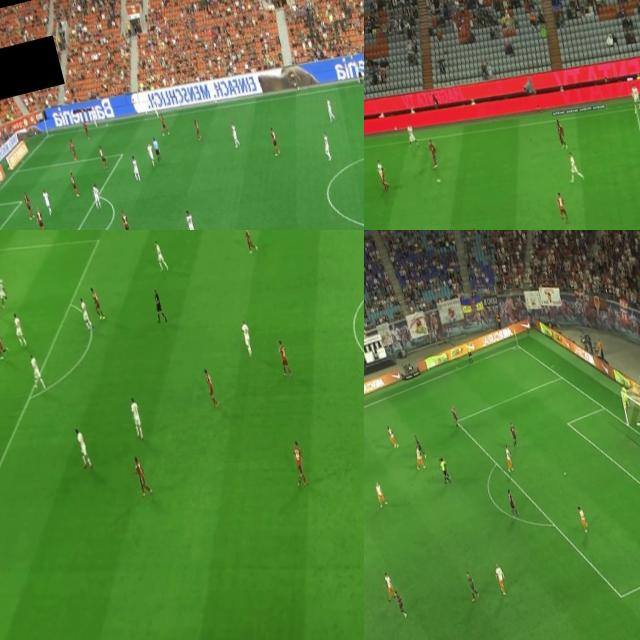ball: (434, 174, 444, 186), (0, 273, 3, 286), (105, 123, 108, 127)
player: (286, 436, 310, 486), (130, 453, 152, 499), (126, 394, 148, 437), (562, 149, 586, 186), (236, 318, 256, 361), (200, 366, 220, 408), (150, 235, 170, 274), (74, 426, 90, 470), (76, 293, 92, 332), (236, 230, 258, 257), (11, 313, 27, 350), (28, 354, 44, 391), (88, 284, 104, 321), (553, 116, 570, 150), (274, 338, 291, 372), (392, 586, 408, 622), (554, 190, 570, 225), (266, 121, 282, 154), (491, 561, 507, 594), (380, 570, 396, 600), (374, 158, 388, 192), (425, 137, 440, 168), (22, 187, 36, 220), (404, 120, 419, 150), (576, 504, 591, 534), (501, 444, 516, 474), (89, 178, 103, 210), (128, 152, 142, 184), (373, 478, 387, 510), (182, 203, 198, 230), (628, 82, 640, 117), (378, 165, 392, 195), (411, 429, 425, 458), (67, 166, 80, 197), (464, 570, 478, 598), (95, 140, 108, 170), (385, 420, 398, 450), (319, 131, 333, 158), (504, 486, 518, 513), (507, 419, 520, 448), (324, 95, 336, 126), (410, 444, 424, 470), (33, 203, 46, 230), (228, 118, 240, 146), (144, 139, 156, 166), (157, 110, 169, 136), (0, 322, 8, 361), (67, 135, 79, 160), (619, 383, 631, 408), (40, 188, 51, 215), (119, 209, 132, 230), (449, 402, 459, 428), (88, 105, 99, 126), (192, 117, 202, 139), (80, 118, 90, 138), (0, 277, 7, 304)
